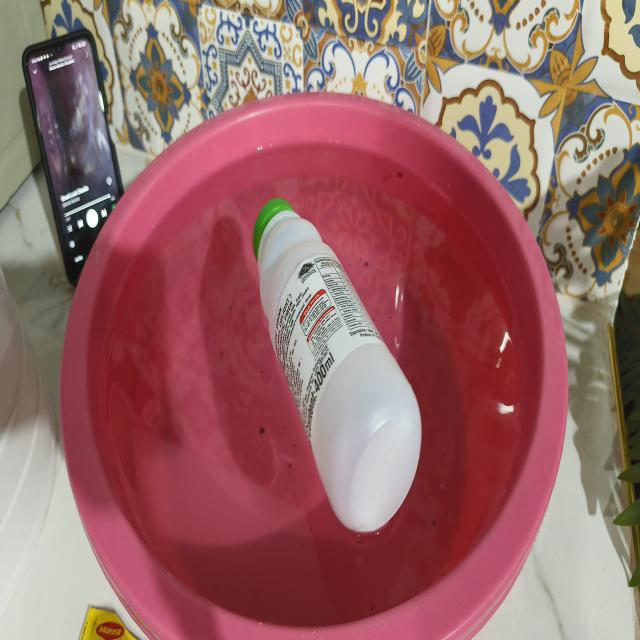Plastic Bottle: (253, 199, 421, 532)
